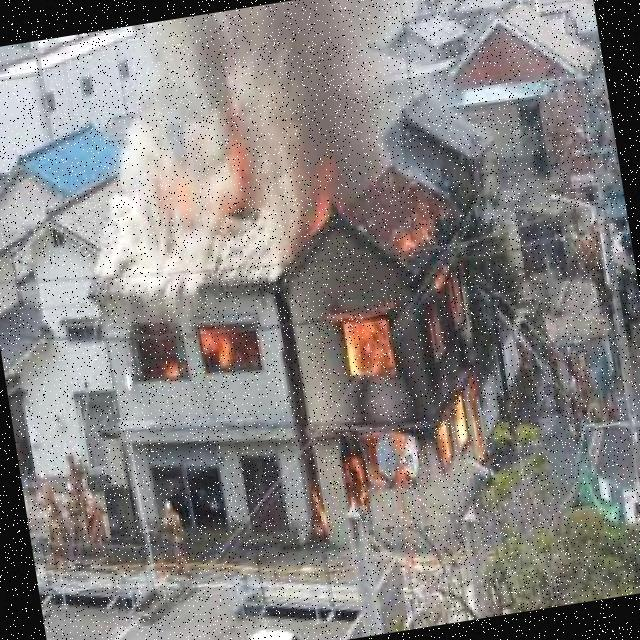Fire: (297, 179, 494, 510), (150, 148, 272, 238), (137, 318, 265, 387)
